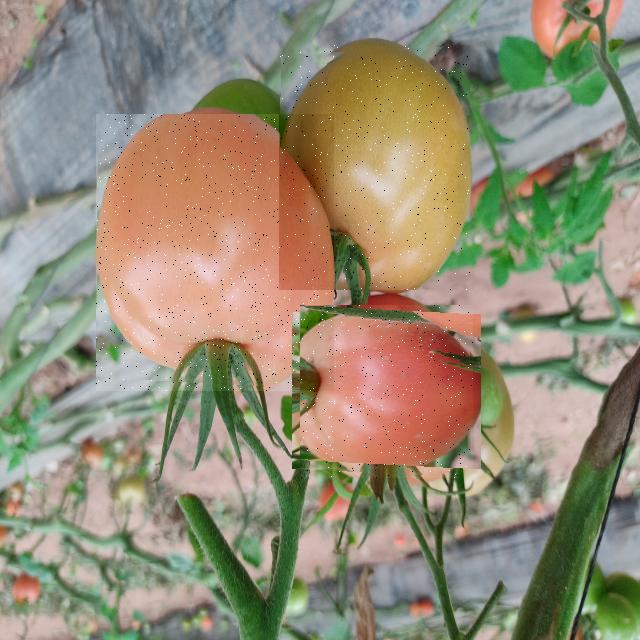Ripe Tomato: (96, 114, 334, 391), (300, 305, 473, 478)
Unripe Tomato: (279, 45, 470, 290)
